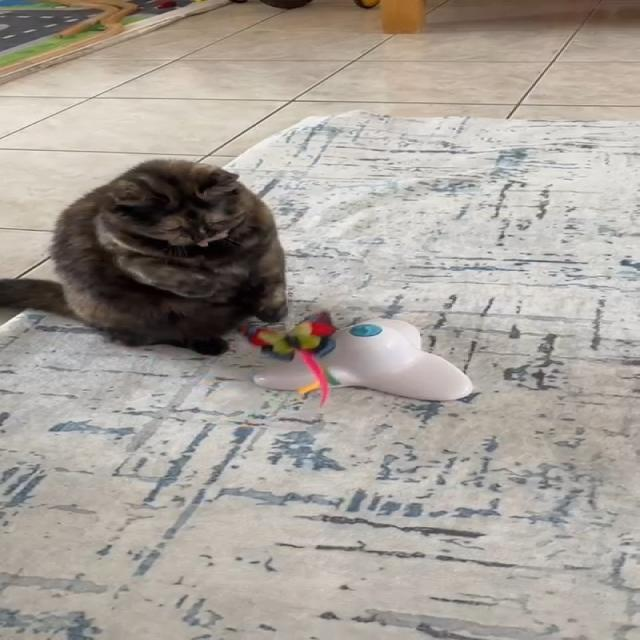authorized: (0, 157, 288, 356)
